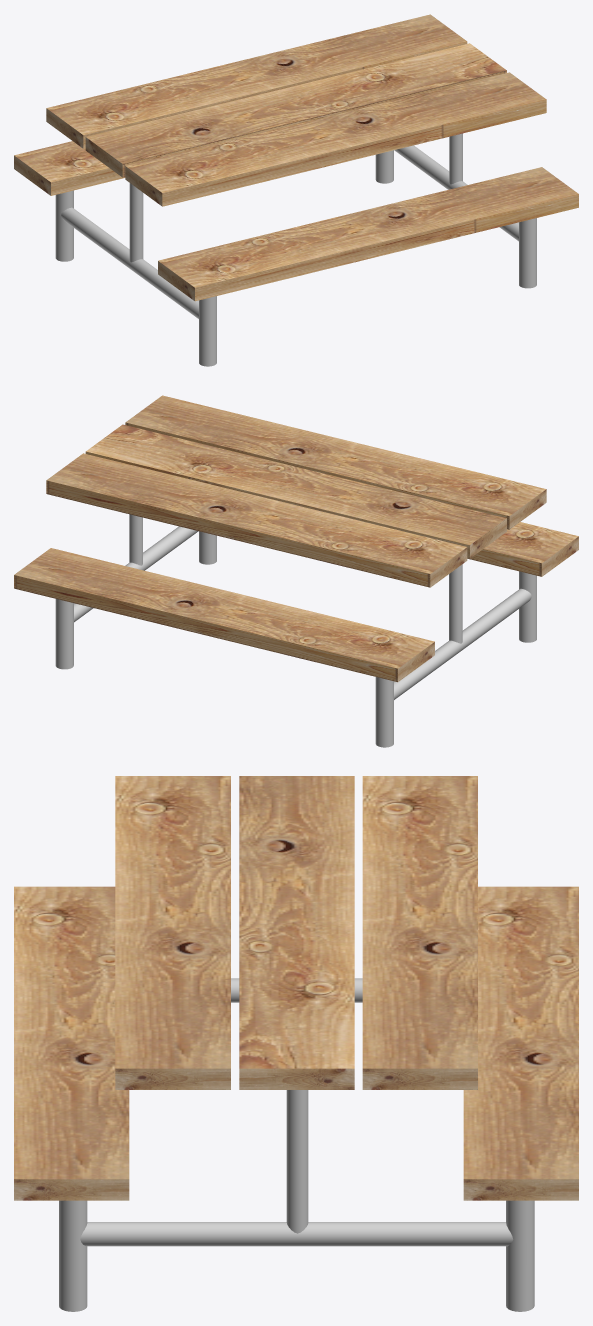
The model's file is PicnicTable.fbx.
The picture shows the model from 3 angles, top to bottom: view 1: azimuth 30°, elevation 25°; view 2: azimuth 150°, elevation 25°; view 3: azimuth 270°, elevation 25°; orthographic projection. The views are drawn at different scales.
Parts seen in each view (by area): view 1: polySurface1; view 2: polySurface1; view 3: polySurface1.
Boxes of the visible parts, box(x1,y1,x2,y2) form: polySurface1: box(14, 14, 578, 366); polySurface1: box(14, 395, 578, 747); polySurface1: box(14, 776, 578, 1311).
Size of the model in its own units: 3 by 1.25 by 2.45.
2 materials, 1 textured.
